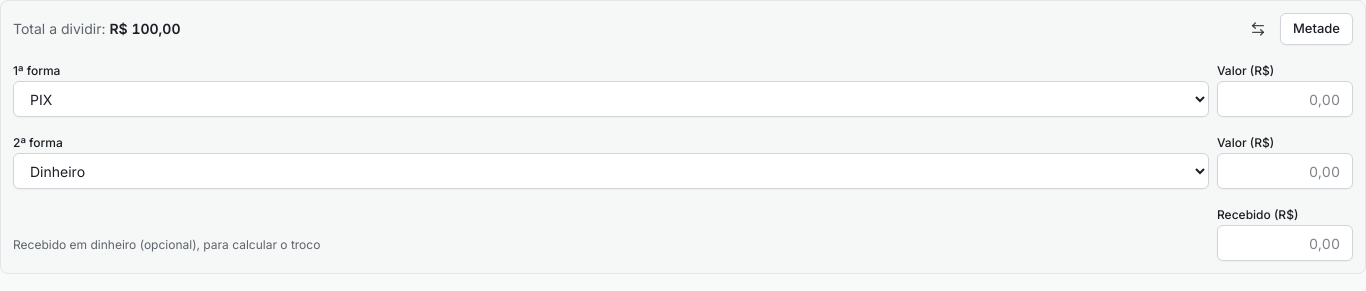
Test case: PagamentoDividido › escolher a mesma forma da outra parte troca as duas de lugar
Select "Dinheiro" in the dropdown with id "divisao-forma-1". click: [611, 99]
box: 13,81 -> 1209,117
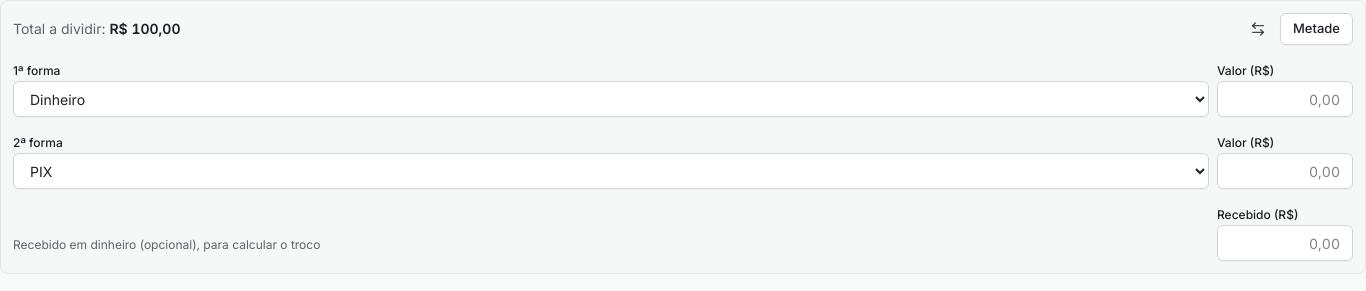
Result: the dropdown with id "divisao-forma-2" shows "PIX" at 13,153 -> 1209,189
